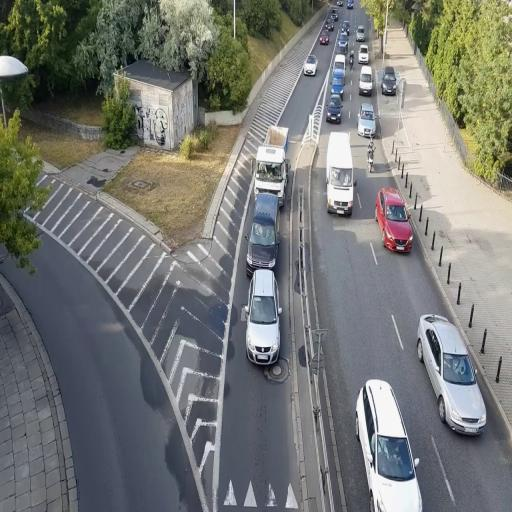vehicle: (356, 377, 423, 512), (416, 313, 486, 435), (246, 131, 287, 275), (244, 268, 281, 366), (245, 190, 279, 274), (254, 125, 288, 204), (375, 186, 413, 254), (326, 132, 354, 216), (358, 103, 377, 137), (326, 94, 342, 124), (381, 67, 398, 95), (359, 65, 373, 95), (303, 57, 318, 78)
